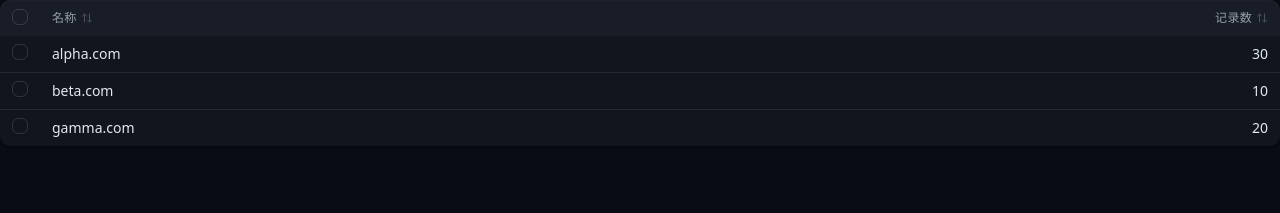
Test: DataTable — row selection › selects the whole page via the header checkbox
Click the checkbox named "选择当前页全部行" at {"x": 20, "y": 16}, box top-left (12, 8), bottom-right (28, 24)
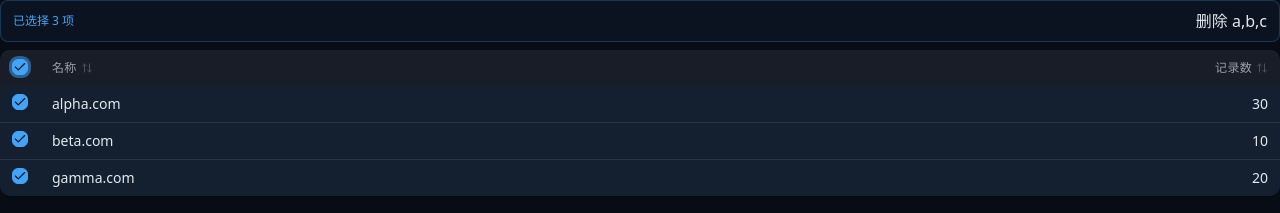
Expected: the text "已选择 3 项" is shown, top-left (13, 13), bottom-right (74, 29)
Expected: the button "删除 a,b,c" is shown, top-left (1196, 9), bottom-right (1267, 33)
